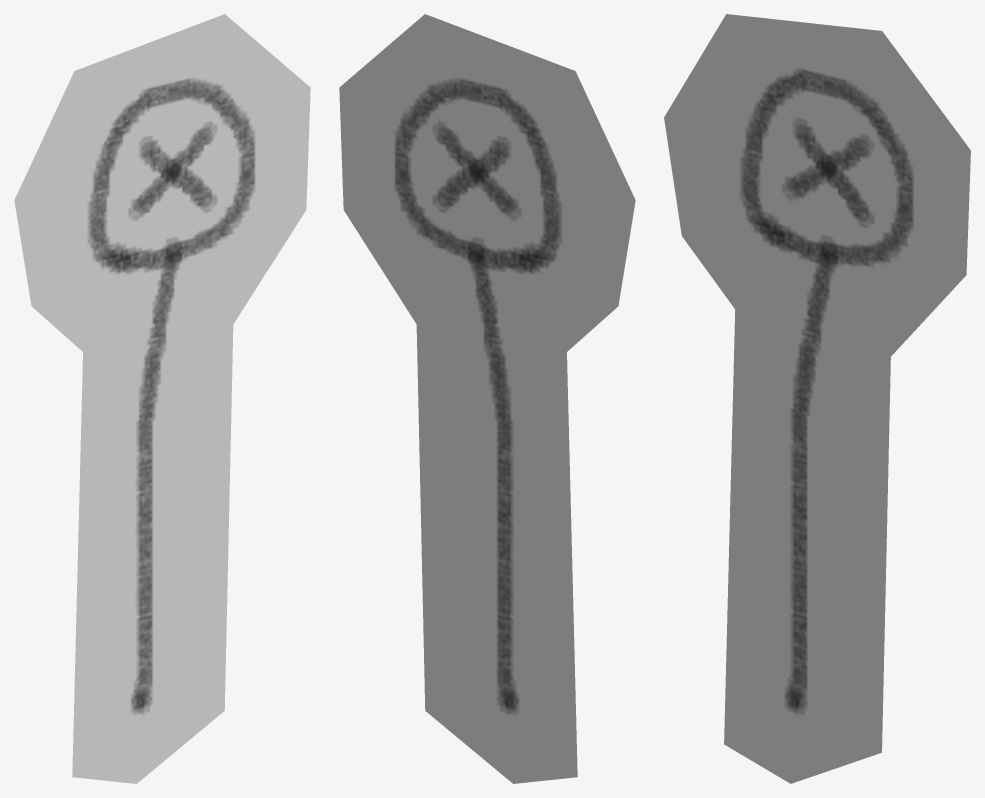
The model's file is Stopsign.fbx.
The picture shows the model from 3 angles, left to right: view 1: azimuth 30°, elevation 25°; view 2: azimuth 150°, elevation 25°; view 3: azimuth 330°, elevation 25°; orthographic projection. The views are drawn at different scales.
Visible parts, largest first — view 1: Plane.016; view 2: Plane.016; view 3: Plane.016.
Part boxes in pixels (box(x1,y1,x2,y2)): Plane.016: box(14, 14, 310, 783); Plane.016: box(339, 14, 635, 783); Plane.016: box(664, 14, 970, 783).
Size of the model in its own units: 16.56 by 39.96 by 6.51e-06.
1 material, 1 textured.
